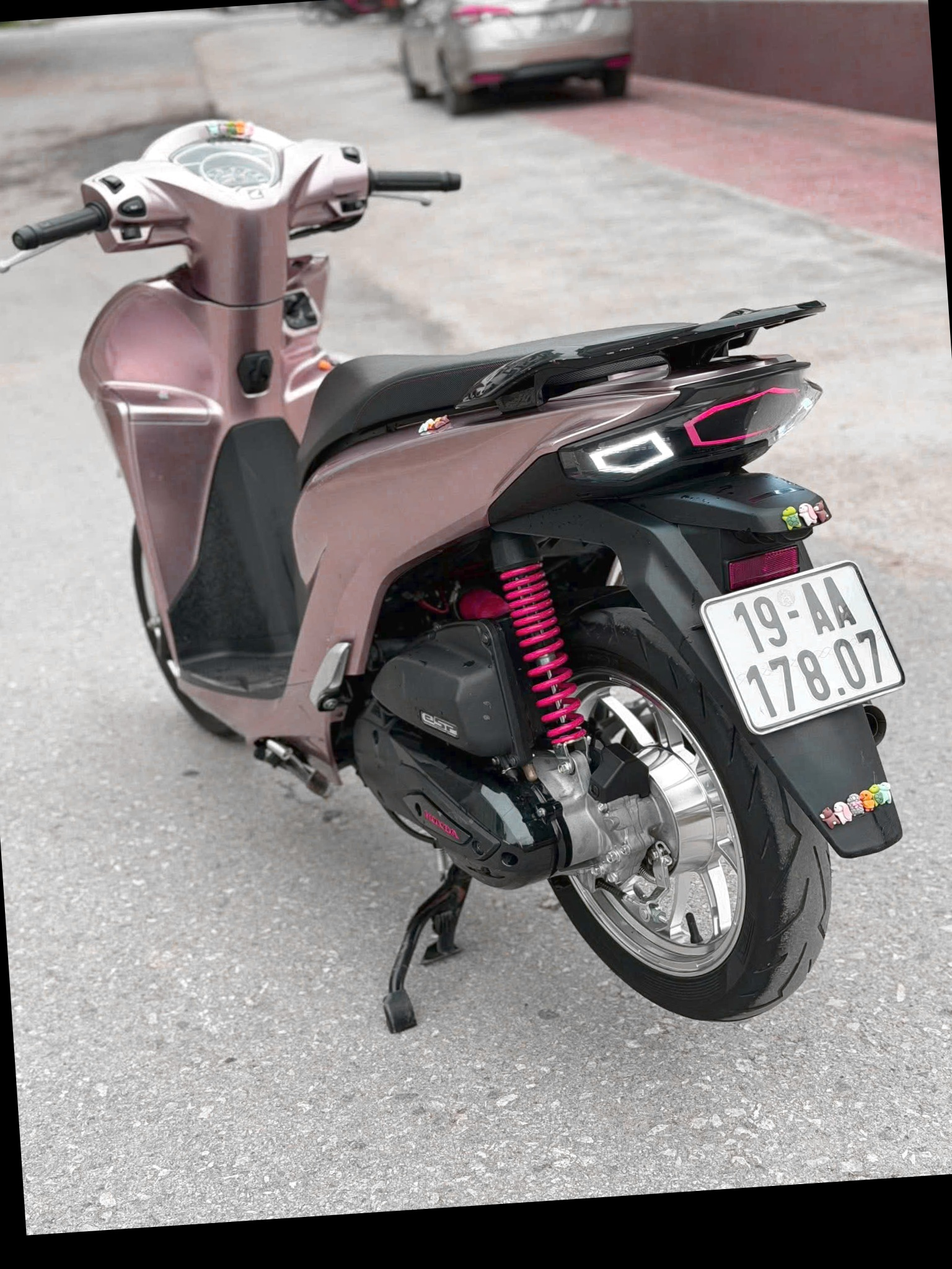Bien-so: (687, 634, 886, 820)
